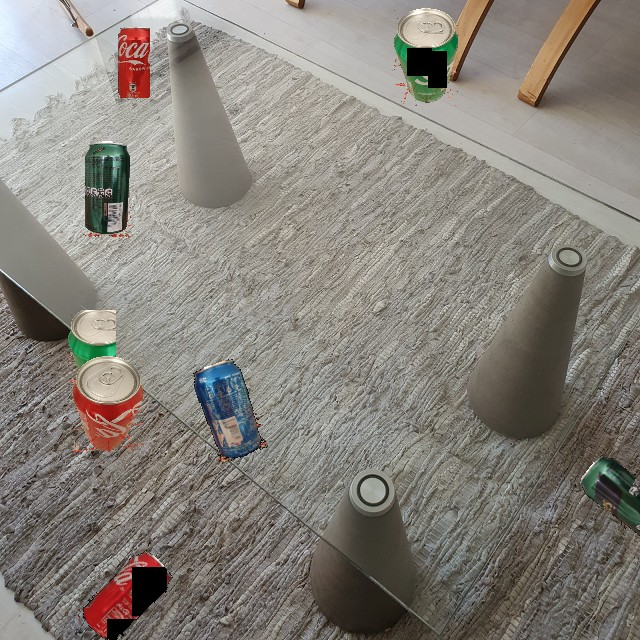coca cola: (75, 545, 177, 640), (73, 356, 144, 452), (118, 27, 150, 98)
pepsi: (190, 357, 268, 464)
schweppes: (574, 450, 640, 543), (83, 141, 132, 237)
sprite: (394, 8, 458, 104), (68, 310, 116, 382)
